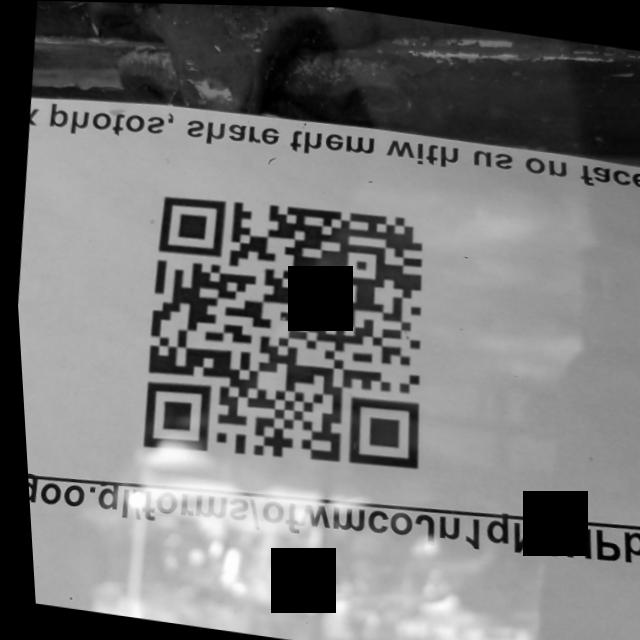QR_CODE: (109, 169, 451, 504)
